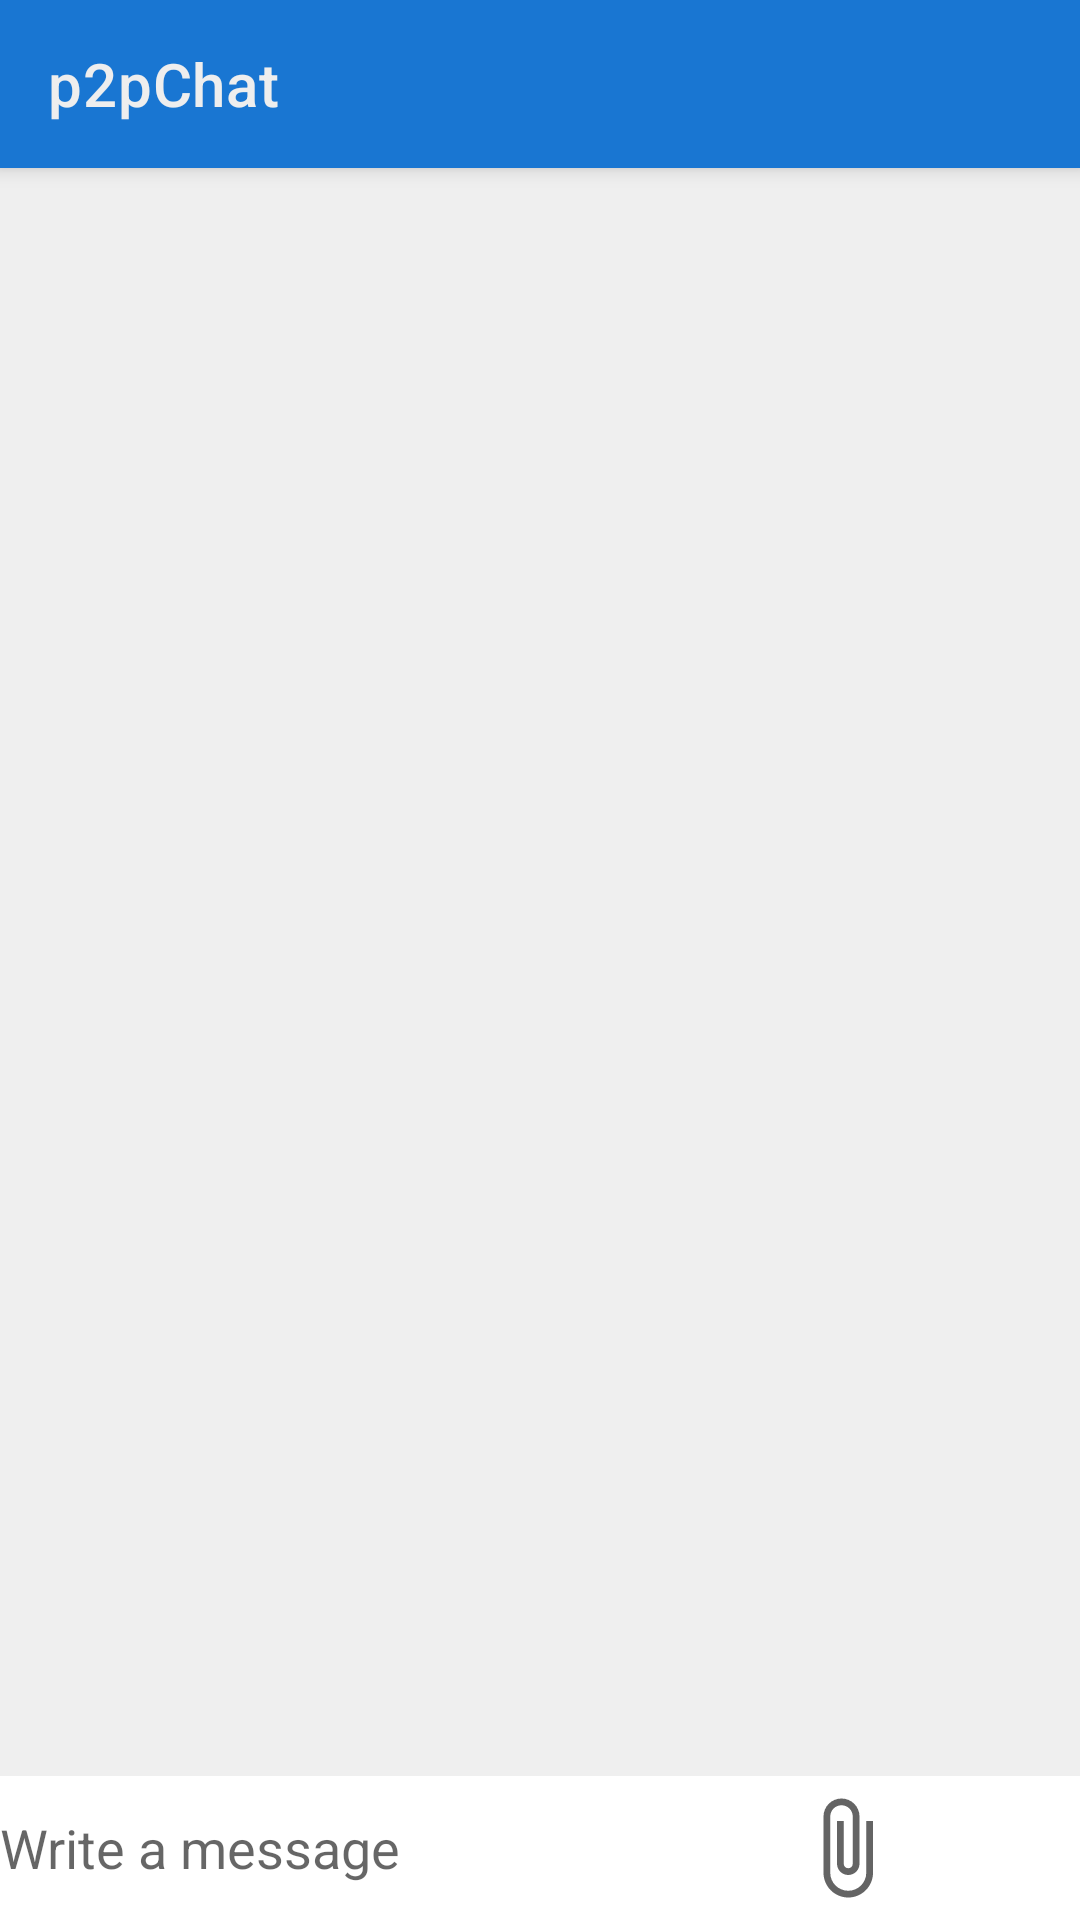

Screen size 1080 × 1920. Icon name, then its box in pixels as (left=x1, top=y1, right=x2, bottom=y2):
attach file: (left=823, top=1798, right=873, bottom=1898)
